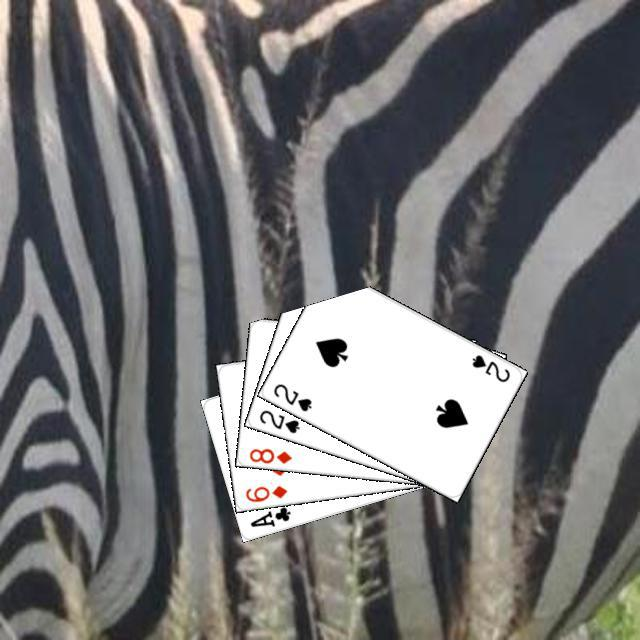2s: (268, 379, 313, 413), (467, 350, 512, 384), (254, 405, 301, 435)
6d: (240, 480, 289, 504)
8d: (245, 443, 293, 465)
Ac: (245, 502, 292, 529)
